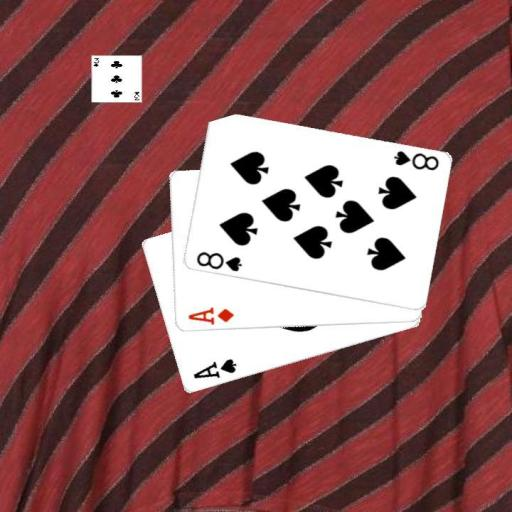8S: (193, 249, 243, 274), (390, 148, 440, 173)
AD: (185, 305, 235, 327)
AS: (190, 356, 237, 381)
